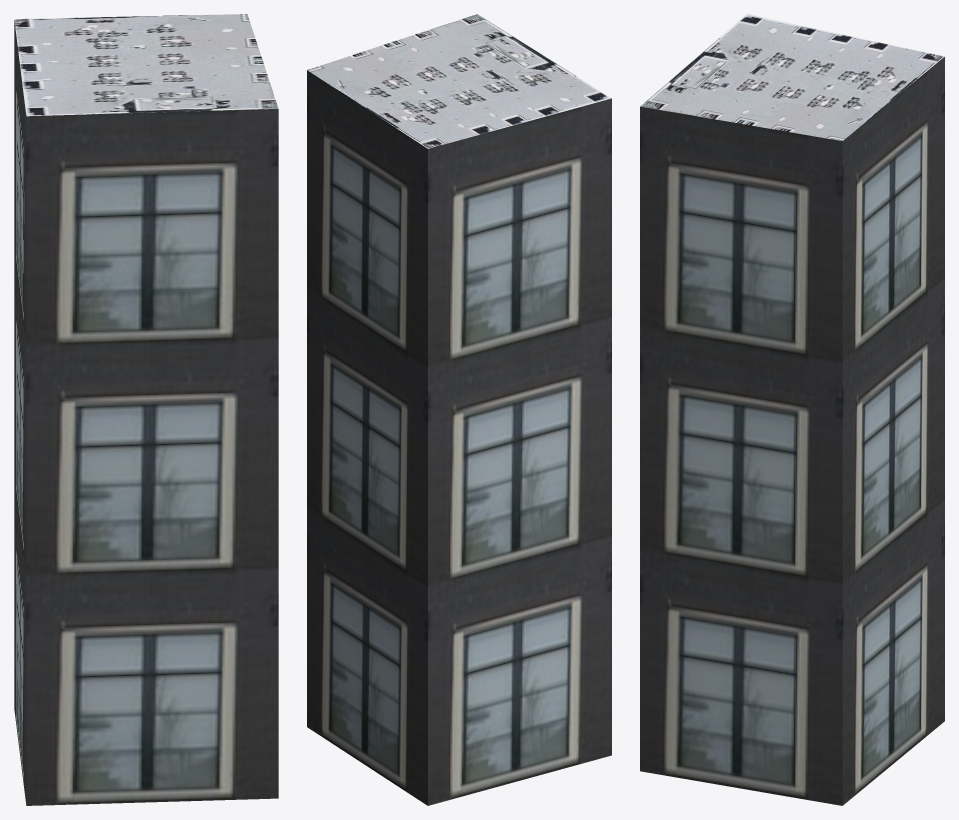
Rendered from ResTex__5335.fbx.
3 views of the same model, side by side, from view 1: azimuth 30°, elevation 25°; view 2: azimuth 150°, elevation 25°; view 3: azimuth 270°, elevation 25° (orthographic). The views are drawn at different scales.
Parts seen in each view (by area): view 1: CityEngineMaterial_22_m, CityEngineMaterial_2_m; view 2: CityEngineMaterial_22_m, CityEngineMaterial_2_m; view 3: CityEngineMaterial_22_m, CityEngineMaterial_2_m.
Part boxes in pixels (x1=…): CityEngineMaterial_22_m: x1=14, y1=21, x2=278, y2=805; CityEngineMaterial_2_m: x1=14, y1=14, x2=278, y2=116; CityEngineMaterial_22_m: x1=307, y1=70, x2=611, y2=805; CityEngineMaterial_2_m: x1=307, y1=14, x2=611, y2=148; CityEngineMaterial_22_m: x1=640, y1=57, x2=944, y2=805; CityEngineMaterial_2_m: x1=640, y1=14, x2=944, y2=141.
Bounding box in the file's own units: 3.7 × 9 × 3.74.
2 materials, 2 textured.
